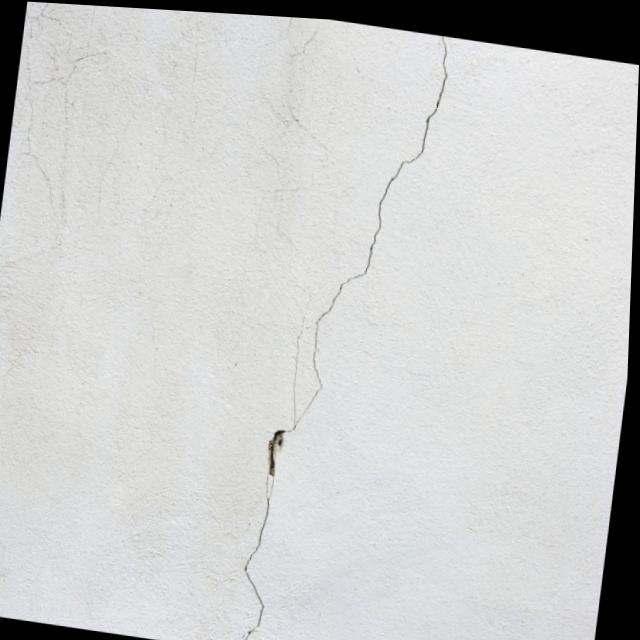Crack: (204, 10, 469, 640)
